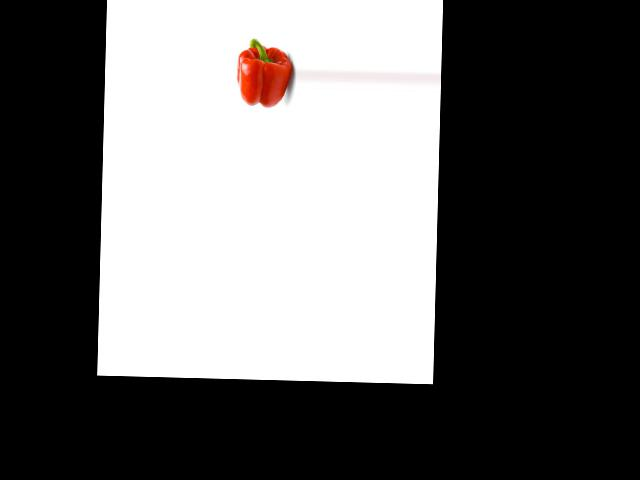bell_pepper: (236, 34, 291, 113)
